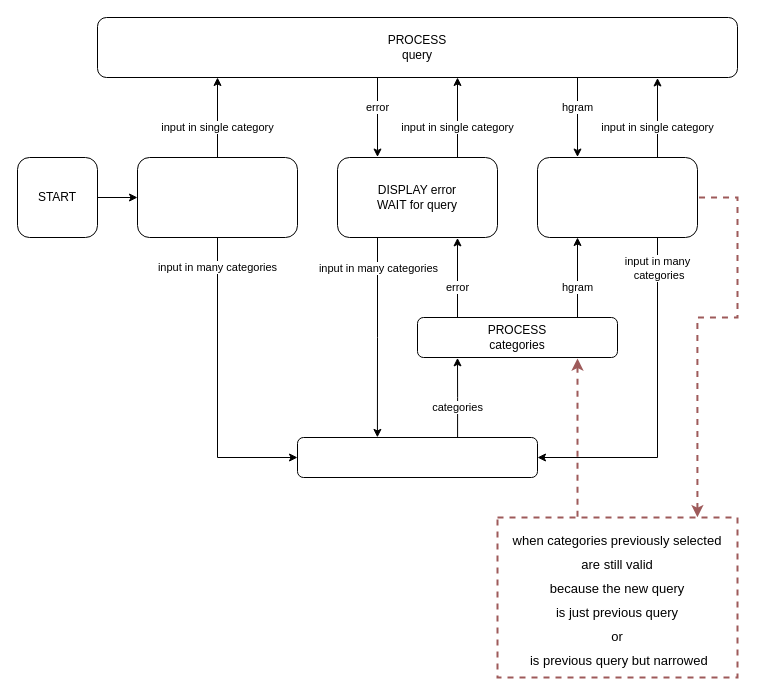
The diagram is 764 pixels wide and 696 high, and some of its shapes have lost their labels. The centre of each missing label's shape, as x and y in pixels:
"DISPLAY hgram WAIT for query WAIT for categories WAIT for params" goes at point 617,197.
"WAIT for categories" goes at point 417,457.
"WAIT for query" goes at point 217,197.
